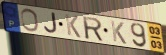9: (129, 23, 147, 49)
J: (43, 12, 59, 35)
K: (64, 13, 83, 39), (110, 19, 128, 46)
O: (20, 8, 41, 33)
R: (81, 16, 105, 43)
